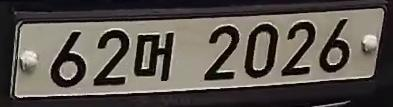0: (242, 18, 279, 82)
2: (200, 22, 242, 85), (90, 24, 131, 88), (280, 18, 318, 77)
6: (46, 27, 90, 91), (317, 16, 355, 73)
머: (130, 30, 180, 85)
